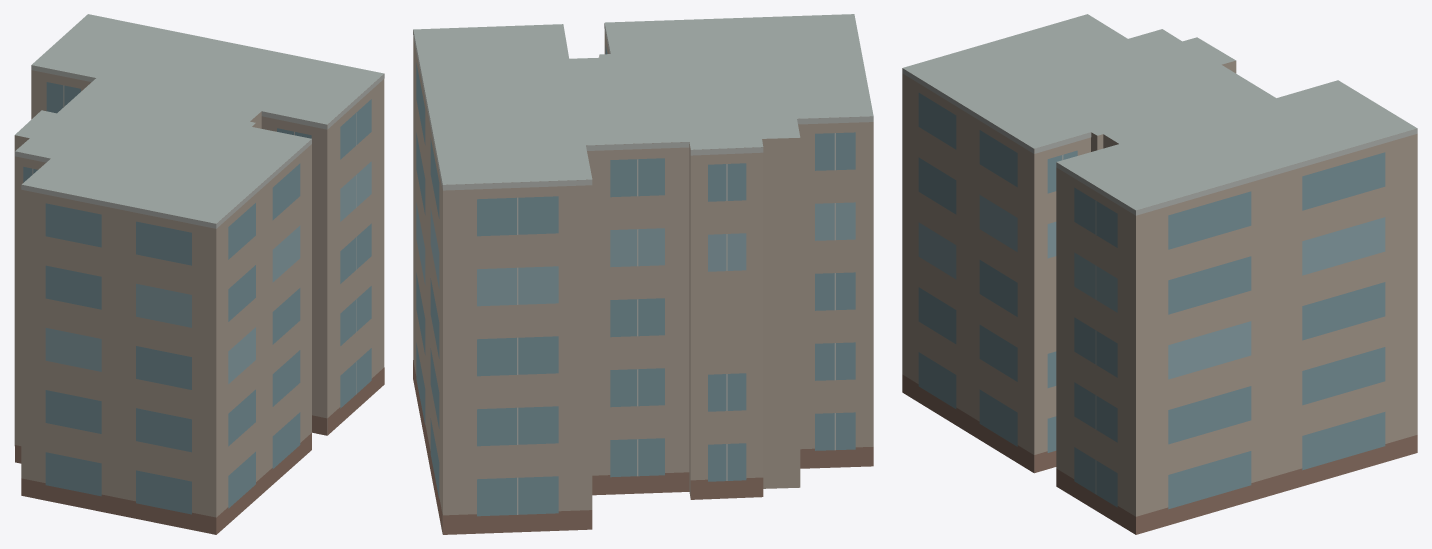
The model's file is survey-upis-32976648.glb.
The picture shows the model from 3 angles, left to right: view 1: azimuth 30°, elevation 25°; view 2: azimuth 150°, elevation 25°; view 3: azimuth 270°, elevation 25°; orthographic projection. The views are drawn at different scales.
Parts seen in each view (by area): view 1: survey-upis-32976648.tmp; view 2: survey-upis-32976648.tmp; view 3: survey-upis-32976648.tmp.
Part boxes in pixels (<box>): survey-upis-32976648.tmp: <box>14,14,384,534</box>; survey-upis-32976648.tmp: <box>413,14,873,534</box>; survey-upis-32976648.tmp: <box>902,14,1417,534</box>.
Size of the model in its own units: 19.56 by 15.05 by 21.68.
